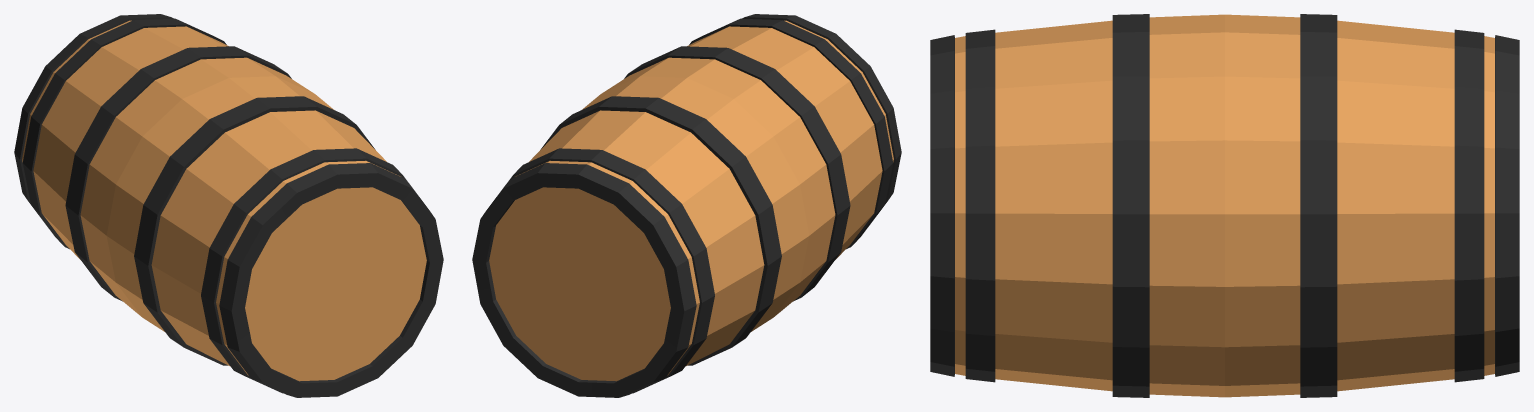
The model's file is Barrel.fbx.
3 views of the same model, side by side, from view 1: azimuth 30°, elevation 25°; view 2: azimuth 150°, elevation 25°; view 3: azimuth 270°, elevation 25° (orthographic). The views are drawn at different scales.
Visible parts, largest first — view 1: Cylinder; view 2: Cylinder; view 3: Cylinder.
Part boxes in pixels (x1,y1,x2,y2): Cylinder: (14,14,443,397); Cylinder: (472,14,901,397); Cylinder: (930,14,1519,397).
Bounding box in the file's own units: 263 × 263 × 403.
